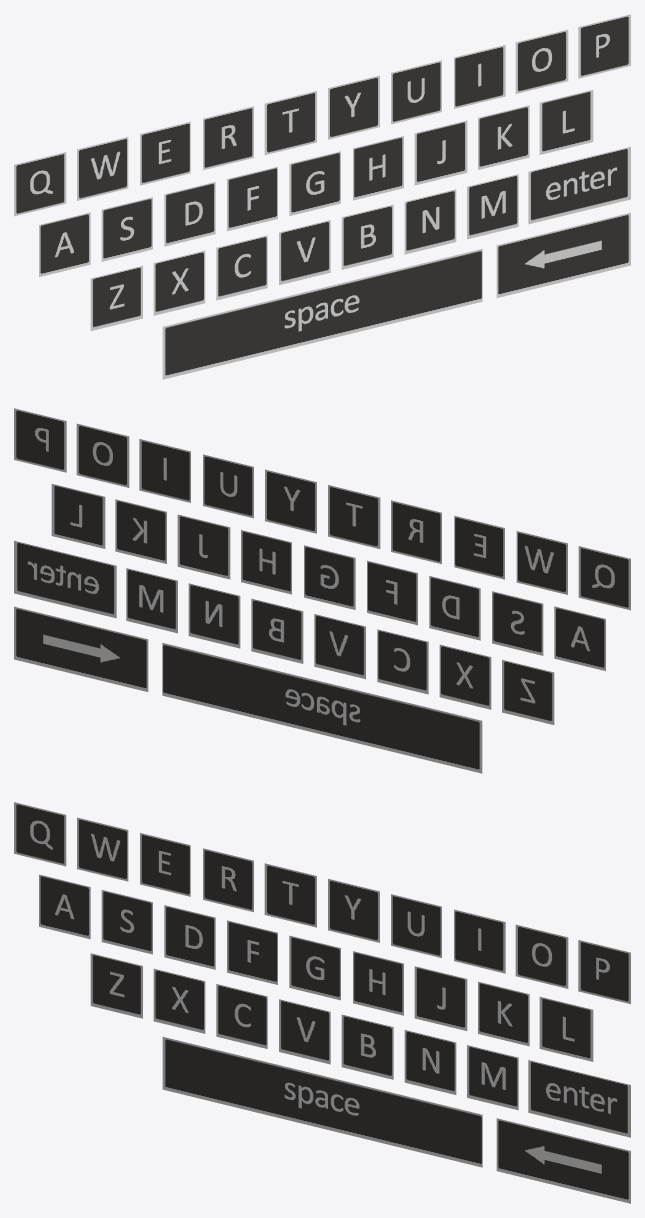
File: QWERTY_03.fbx
The picture shows the model from 3 angles, top to bottom: view 1: azimuth 30°, elevation 25°; view 2: azimuth 150°, elevation 25°; view 3: azimuth 330°, elevation 25°; orthographic projection.
Visible parts, largest first — view 1: SPACE, BACKSPACE, ENTER, L, J, N, B, X, Z, O, C, V (+17 smaller); view 2: SPACE, BACKSPACE, ENTER, L, J, N, B, X, Z, O, C, V (+17 smaller); view 3: SPACE, BACKSPACE, ENTER, L, J, Z, B, X, N, O, V, M (+17 smaller).
Part boxes in pixels (<box>): SPACE: <box>162,249,482,379</box>; BACKSPACE: <box>496,212,630,297</box>; ENTER: <box>528,146,630,224</box>; L: <box>539,90,593,154</box>; J: <box>414,120,467,185</box>; N: <box>404,189,456,254</box>; B: <box>341,204,393,269</box>; X: <box>153,250,205,315</box>; Z: <box>90,266,142,330</box>; O: <box>515,29,568,93</box>; C: <box>216,235,267,300</box>; V: <box>279,220,330,285</box>; SPACE: <box>162,643,482,773</box>; BACKSPACE: <box>14,606,148,691</box>; ENTER: <box>14,540,116,618</box>; L: <box>51,484,105,548</box>; J: <box>177,514,230,579</box>; N: <box>188,583,240,648</box>; B: <box>251,598,303,663</box>; X: <box>439,644,491,709</box>; Z: <box>502,660,554,724</box>; O: <box>76,423,129,487</box>; C: <box>377,629,428,694</box>; V: <box>314,614,365,679</box>; SPACE: <box>162,1037,482,1167</box>; BACKSPACE: <box>496,1118,630,1203</box>; ENTER: <box>528,1060,630,1137</box>; L: <box>539,997,593,1061</box>; J: <box>414,966,467,1030</box>; Z: <box>90,953,142,1018</box>; B: <box>341,1014,393,1079</box>; X: <box>153,968,205,1033</box>; N: <box>404,1030,456,1094</box>; O: <box>515,924,568,988</box>; V: <box>279,999,330,1064</box>; M: <box>467,1045,518,1110</box>.
Size of the model in its own units: 19.19 by 7.47 by 8.88e-16.
